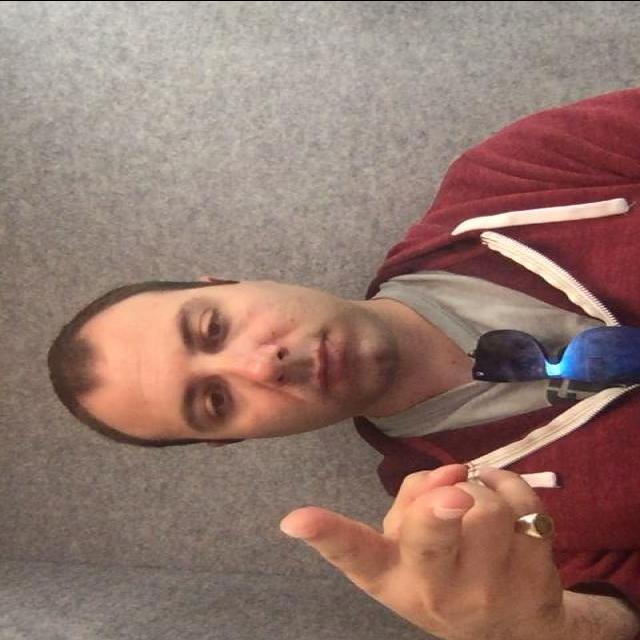Scissors: (275, 457, 581, 640)
